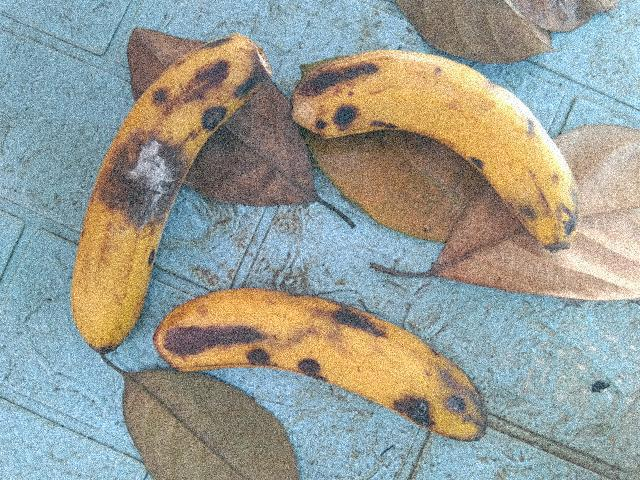overripe: (41, 37, 267, 392), (158, 287, 482, 463)
ripe: (294, 31, 588, 264)
rotten: (69, 121, 213, 258)
